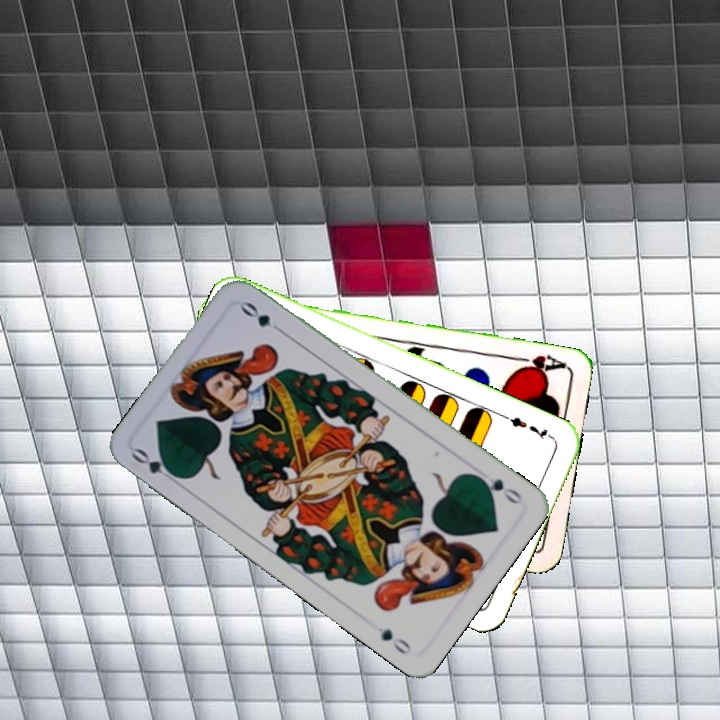E7: (500, 411, 556, 443)
GO: (127, 444, 183, 487), (471, 471, 525, 507)
HA: (510, 350, 569, 378)
